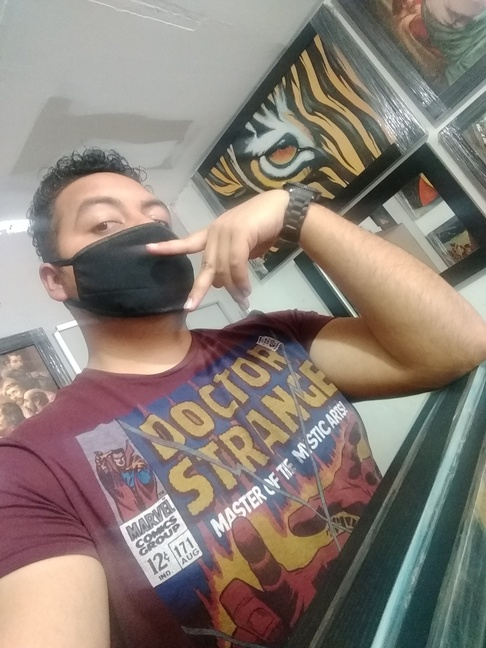Yoshi: (6, 128, 242, 349)
